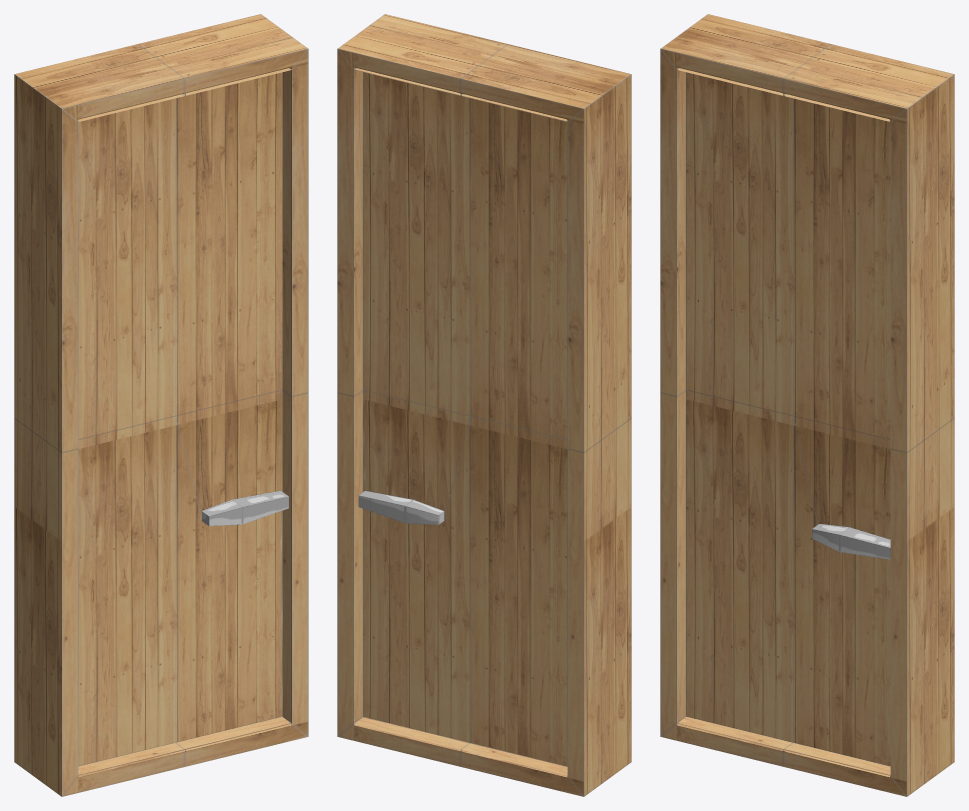
The model's file is Door texture.fbx.
3 views of the same model, side by side, from view 1: azimuth 30°, elevation 25°; view 2: azimuth 150°, elevation 25°; view 3: azimuth 330°, elevation 25° (orthographic).
Visible parts, largest first — view 1: dOOR; view 2: dOOR; view 3: dOOR.
Boxes of the visible parts, <box> form: dOOR: <box>14,14,308,796</box>; dOOR: <box>337,14,631,796</box>; dOOR: <box>660,14,954,796</box>.
Bounding box in the file's own units: 1.5 × 4 × 0.5065.
1 material, 1 textured.
